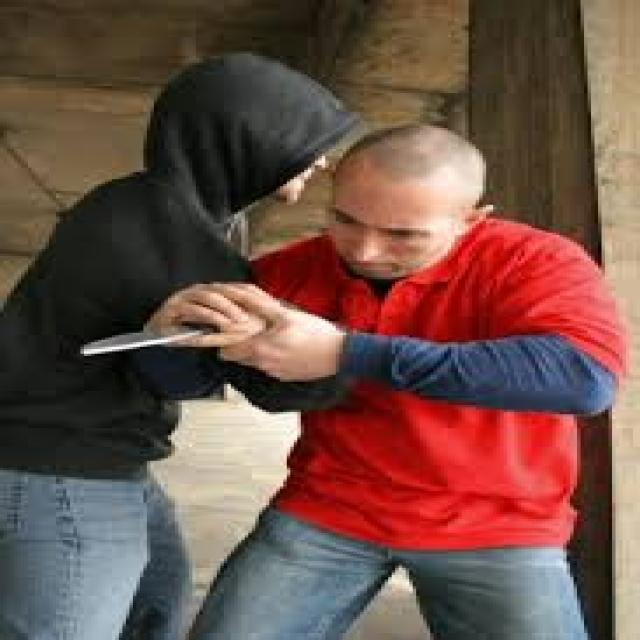knife: (46, 316, 263, 388)
